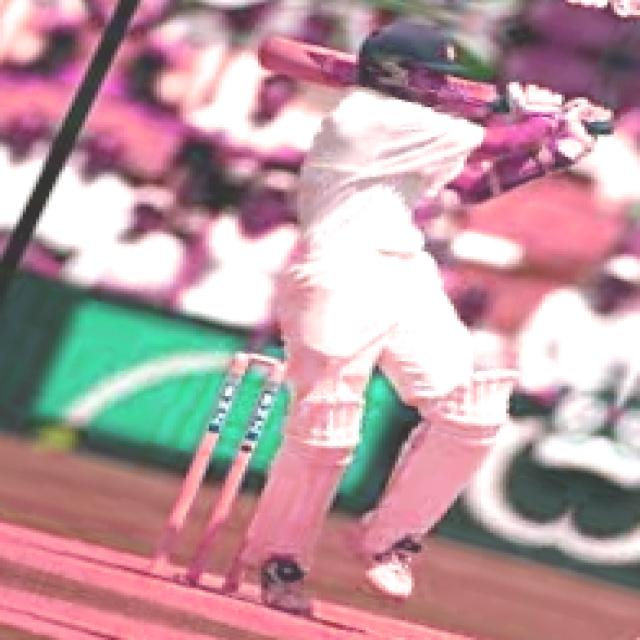toe: (256, 35, 272, 73)
